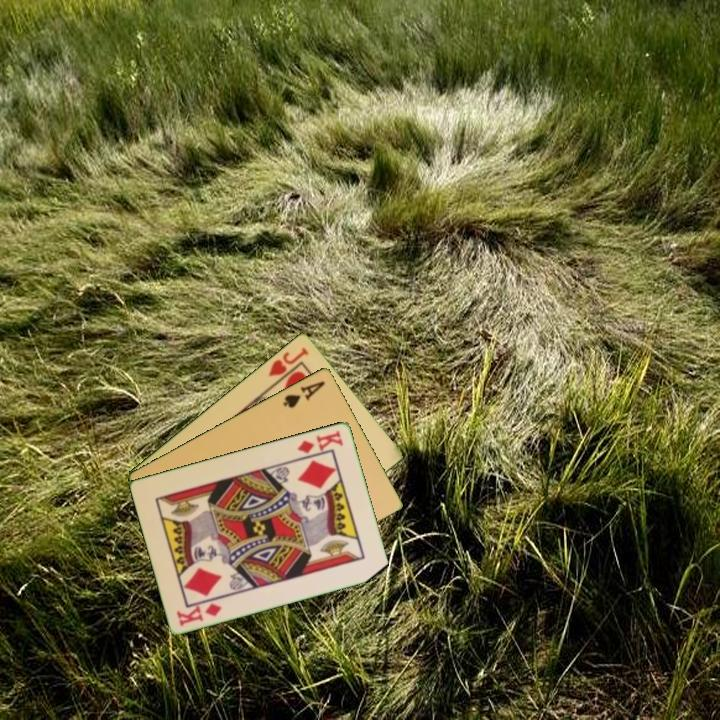As: (279, 377, 328, 410)
Jh: (265, 343, 312, 379)
Kd: (173, 599, 225, 629), (293, 427, 346, 456)
